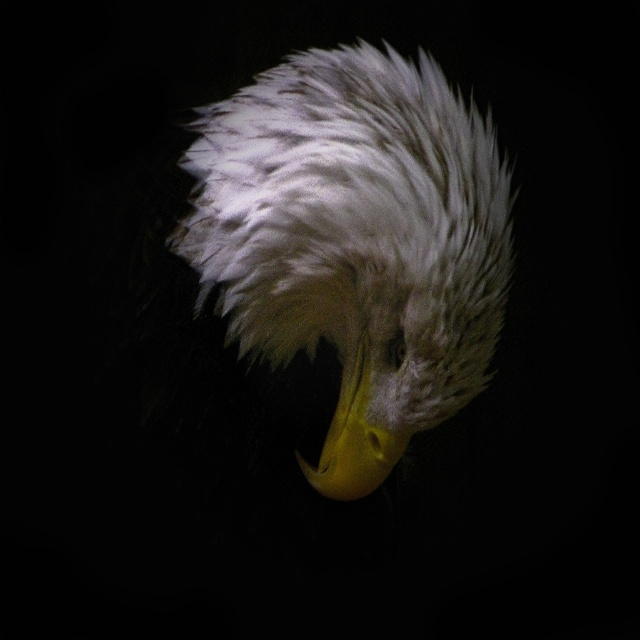Eagle: (176, 34, 512, 508)
